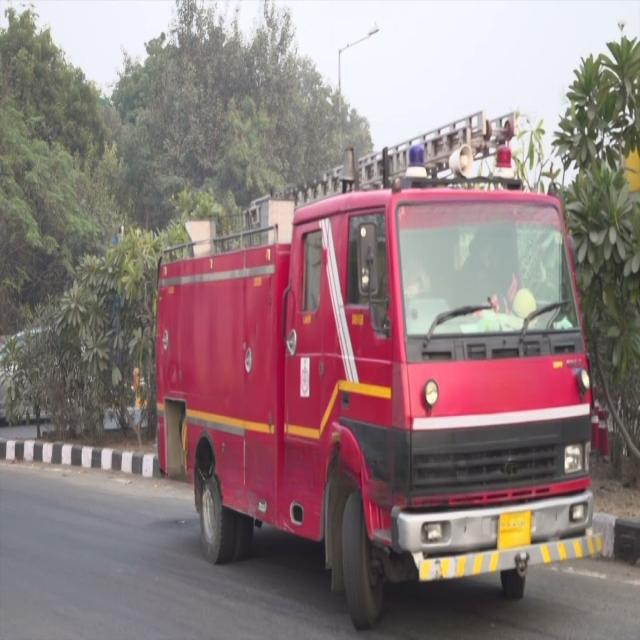emergency: (156, 111, 601, 626)
